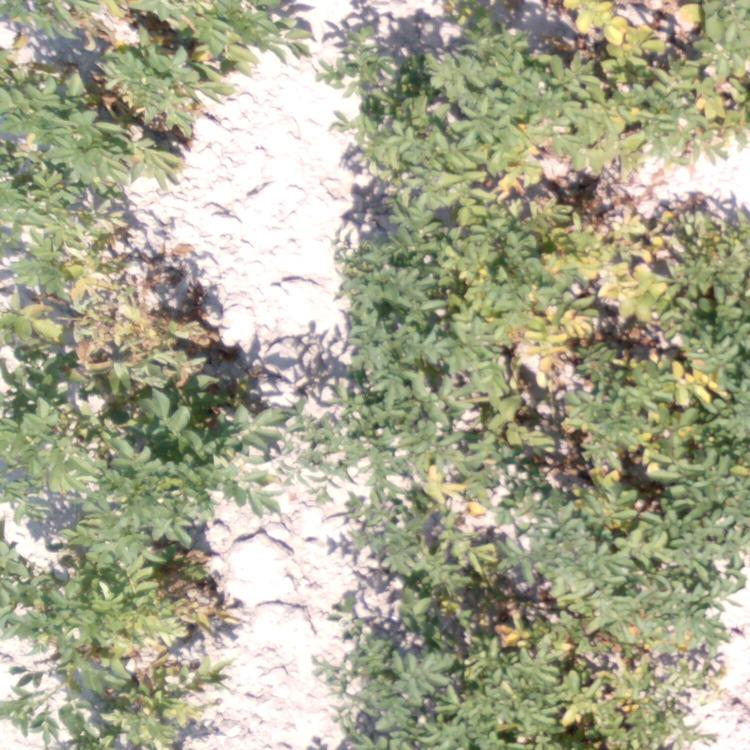healthy: (1, 391, 231, 546), (247, 387, 411, 480), (338, 202, 419, 380)
stressed: (354, 479, 750, 647), (420, 333, 749, 480), (1, 546, 233, 750), (341, 1, 566, 198), (437, 199, 745, 333), (1, 212, 232, 385), (329, 649, 664, 748), (1, 1, 139, 211), (574, 1, 740, 135), (140, 1, 192, 180), (189, 4, 323, 71), (568, 140, 687, 192)
